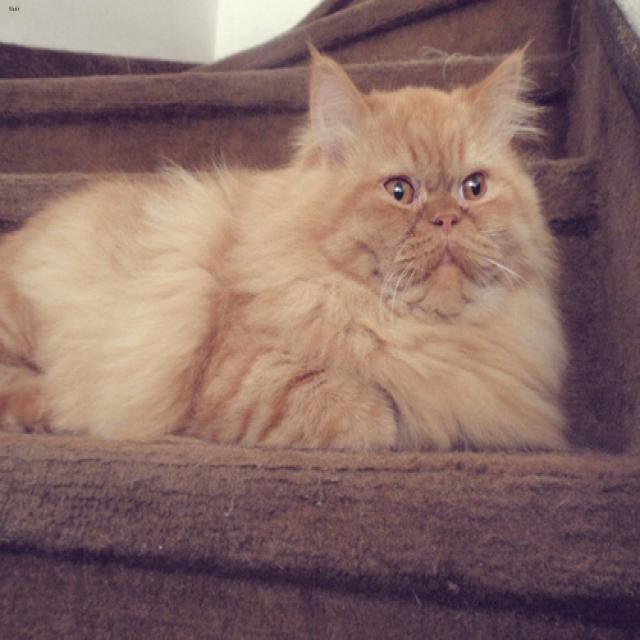Persian: (307, 45, 521, 312)
